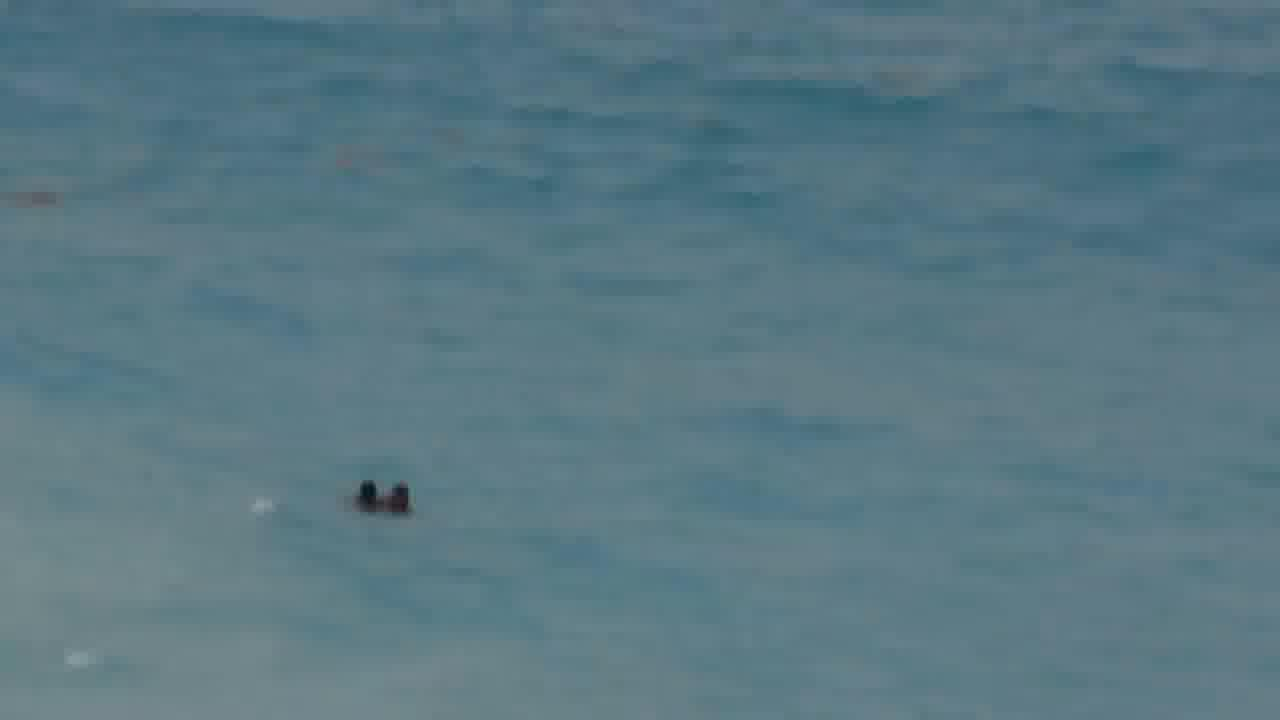swimmer: (386, 469, 421, 520), (344, 464, 374, 514)
